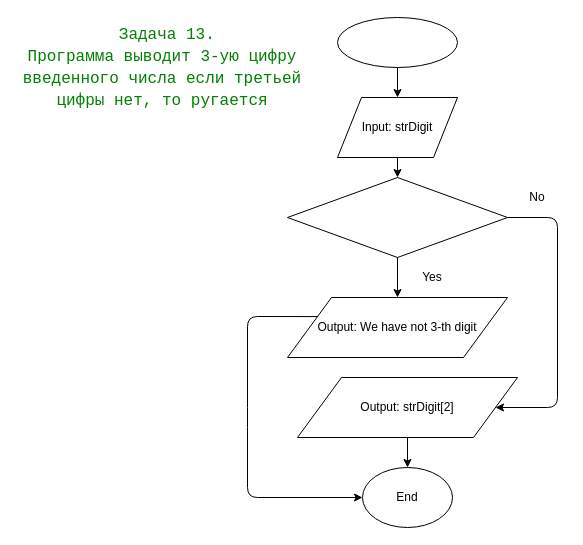
The diagram is 583 pixels wide and 545 high, and some of its shapes have lost their labels. The shapes that lost their labels are listed below. From the top down, each one's centre as x and y in pixels, then its label:
the point at 397,42: Start
the point at 397,217: strDigit.length < 3
